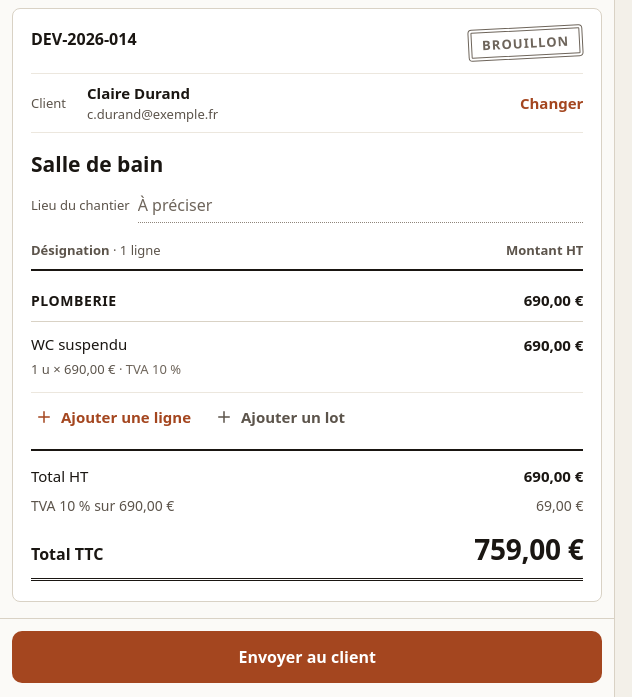
Test case: Fiche devis › brouillon : une seule action principale, et l'envoi demande confirmation
(page scrolled)
Check: the text "Brouillon" is shown, box x1=467 y1=24 x2=584 y2=62
Click the button "Envoyer au client" at point(307, 657), box x1=12 y1=631 x2=602 y2=683
(page scrolled)
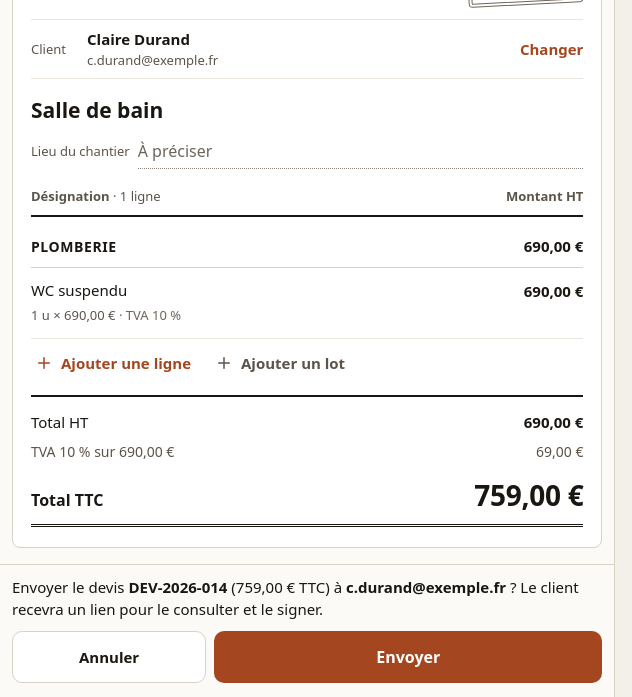
Check: the element named "Confirmer l'envoi" shows "à c.durand@exemple.fr ?", box x1=12 y1=577 x2=602 y2=683
Check: the button "Envoyer" is shown, box x1=214 y1=631 x2=602 y2=683
